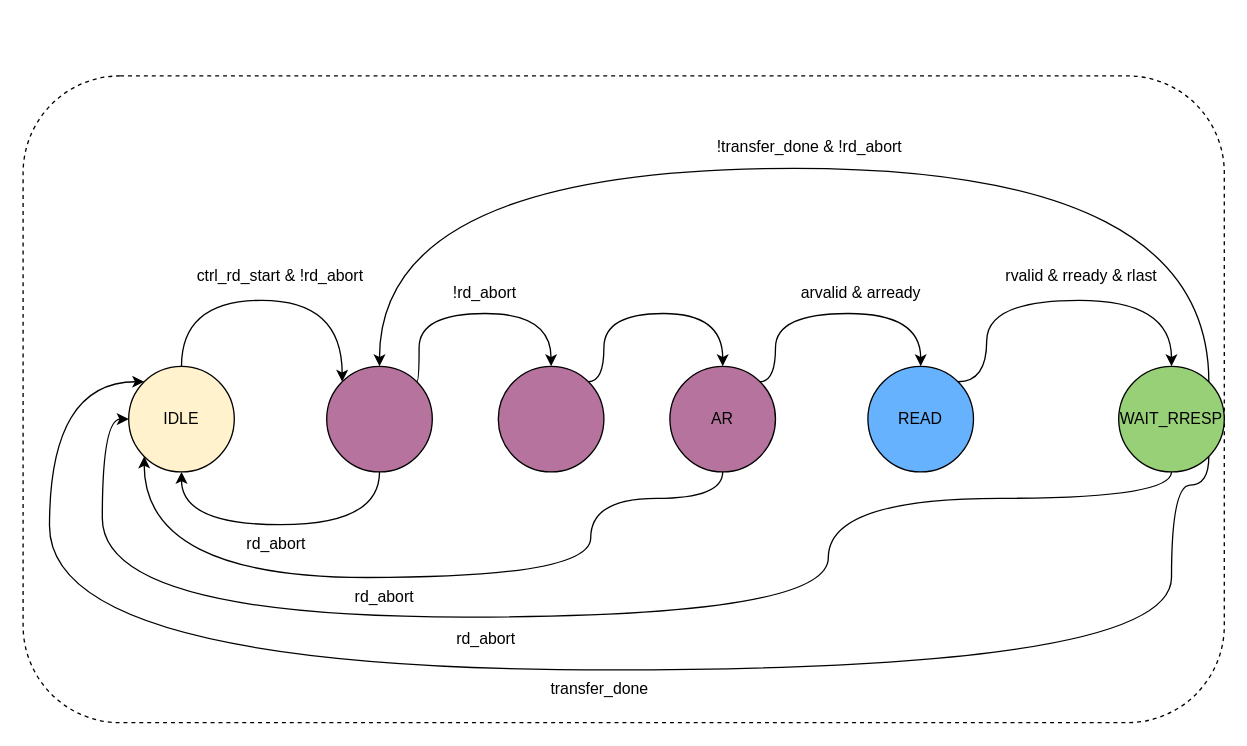
The diagram is 1247 pixels wide and 746 high, and some of its shapes have lost their labels. The shapes that lost their labels are listed below. From the top down, each one's box as (x1, y1, x2, y2) in pixels, then its label:
(325, 365, 432, 472): PREP1
(497, 365, 604, 472): PREP2
